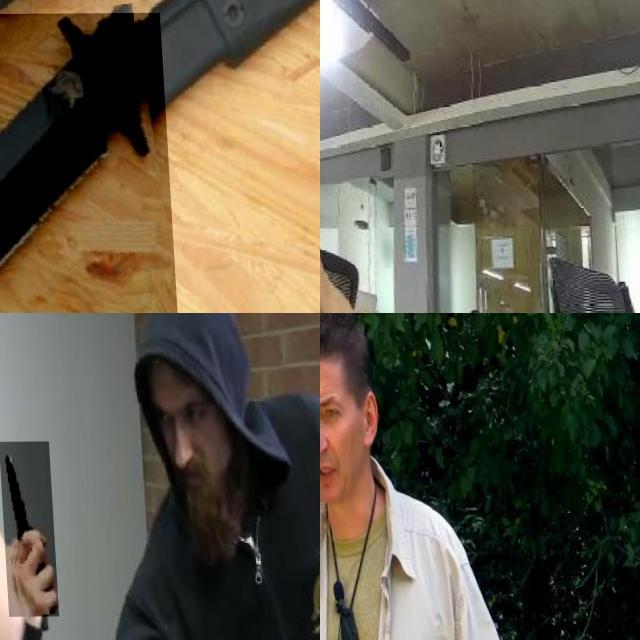-: (0, 13, 204, 313), (0, 442, 54, 617)
